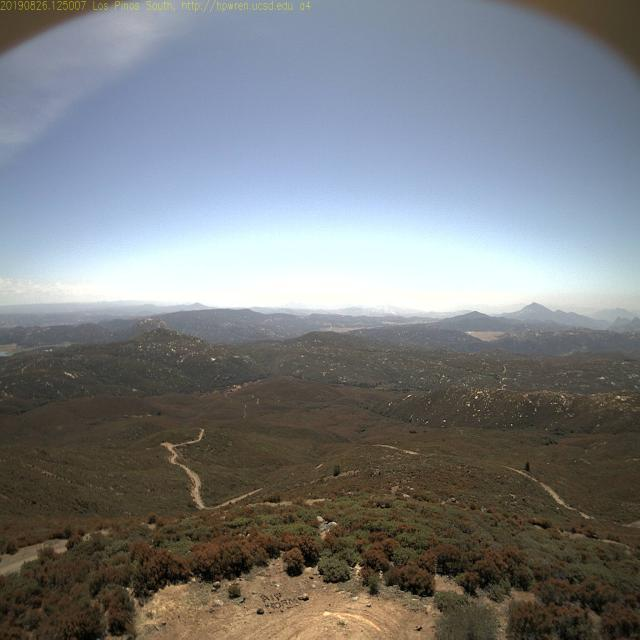smoke: (383, 307, 398, 317)
